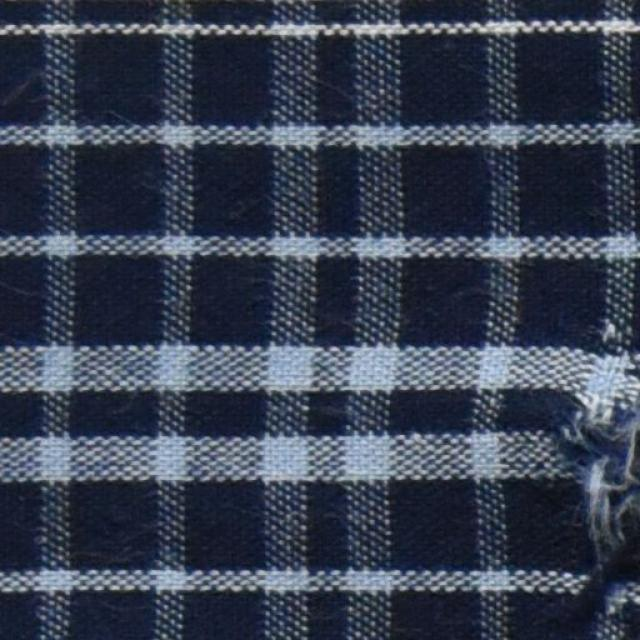Snag: (557, 365, 639, 626)
